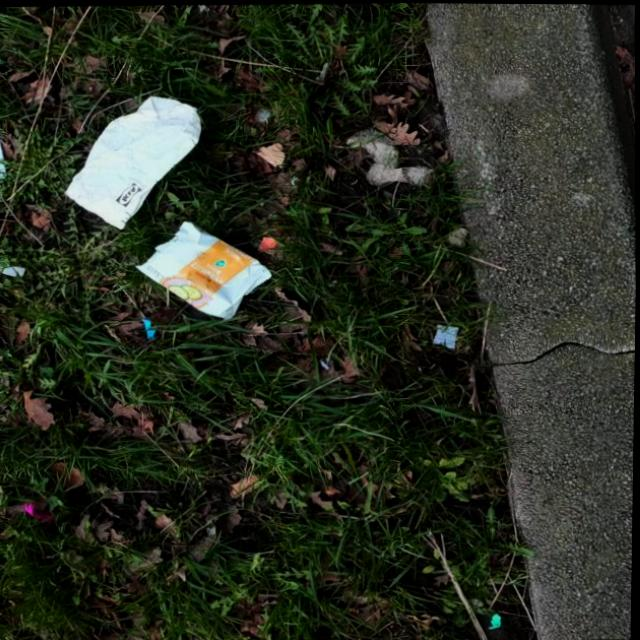Paper: (60, 92, 204, 230)
Plastic: (130, 217, 274, 322), (345, 124, 437, 187)
